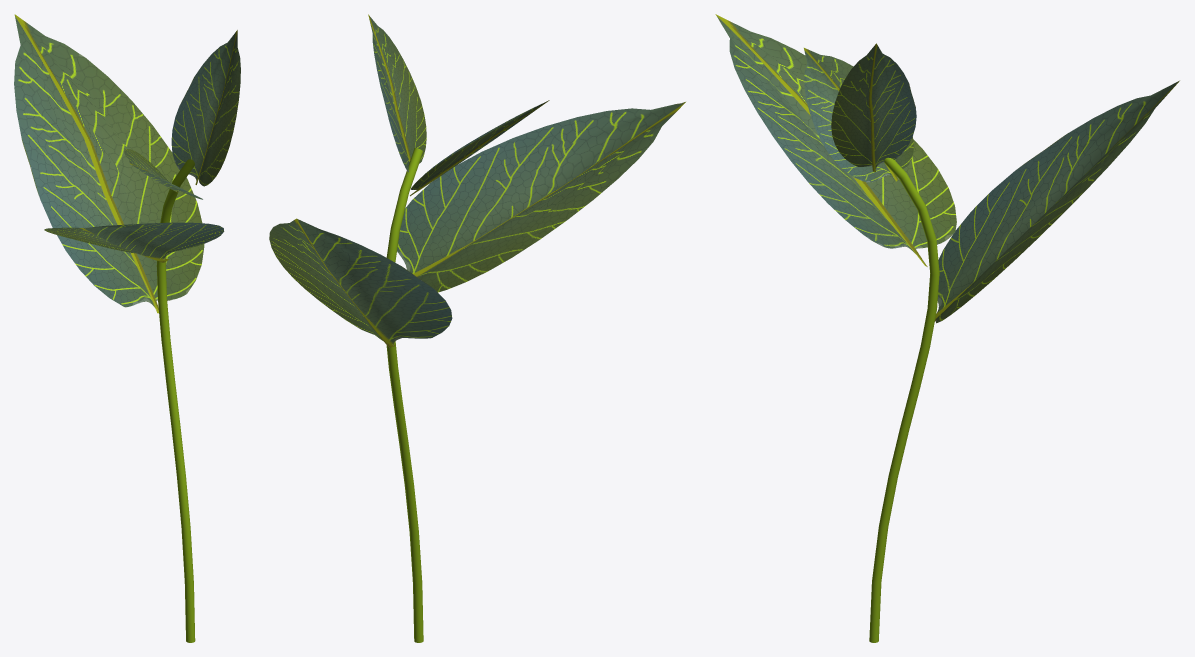
The model's file is brote.obj.
3 views of the same model, side by side, from view 1: azimuth 30°, elevation 25°; view 2: azimuth 150°, elevation 25°; view 3: azimuth 270°, elevation 25° (orthographic). The views are drawn at different scales.
Parts seen in each view (by area): view 1: Plane; view 2: Plane; view 3: Plane.
Part boxes in pixels (x1,y1,x2,y2): Plane: (14, 14, 240, 642); Plane: (269, 14, 685, 642); Plane: (715, 14, 1179, 642).
Size of the model in its own units: 0.2654 by 0.6106 by 0.4139.
2 materials, 2 textured.
